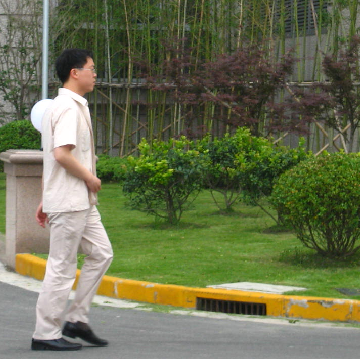pedestrian: (31, 49, 113, 351)
